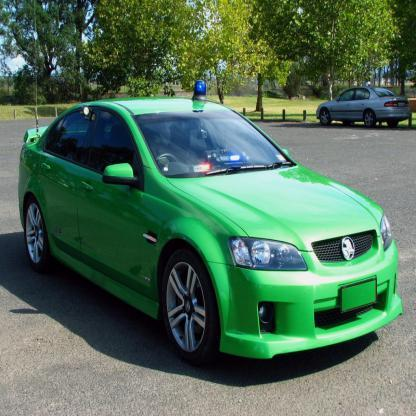car: (18, 81, 404, 367), (315, 83, 411, 127)
